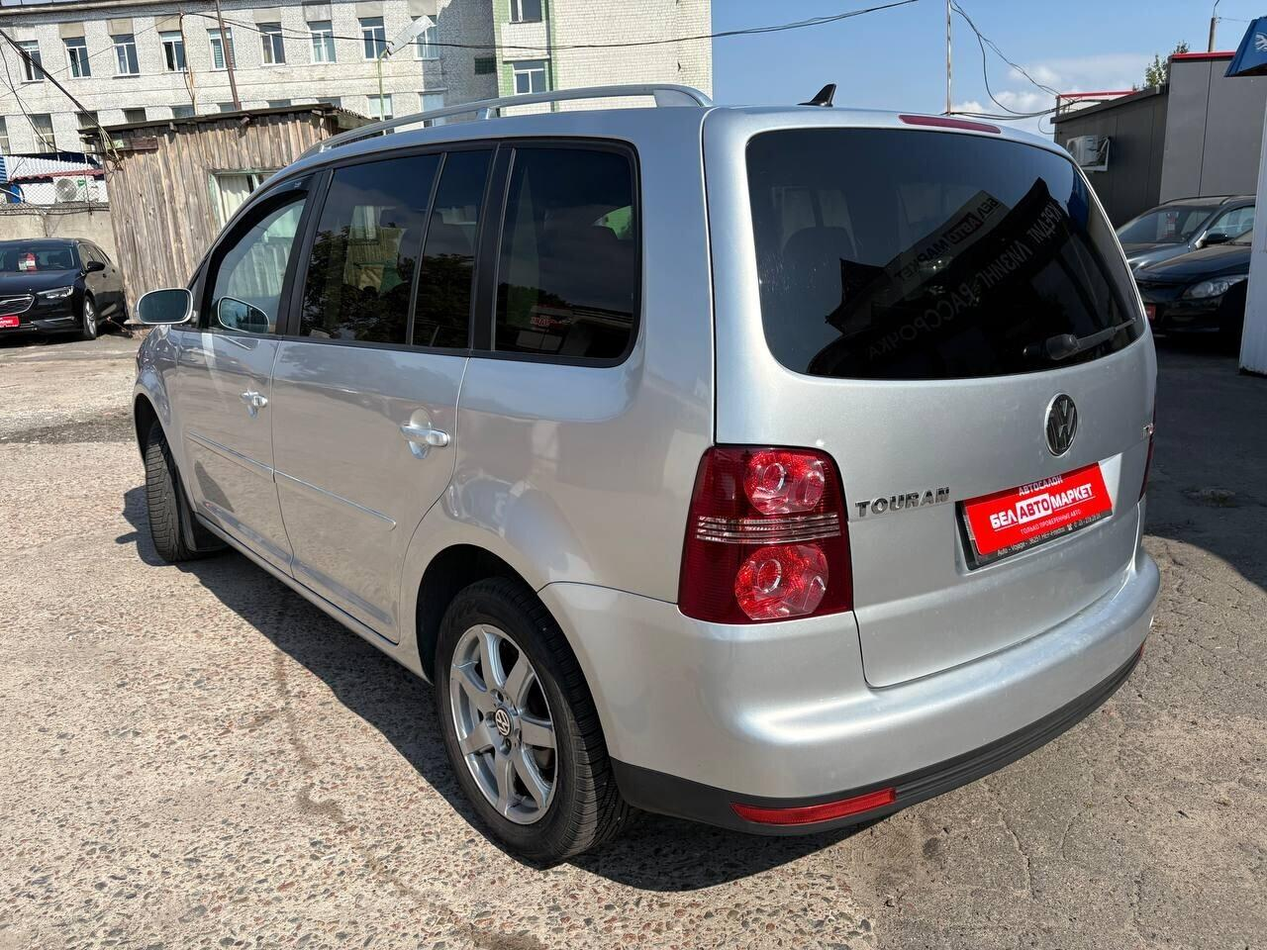Touran_2006-2010: (130, 104, 1164, 870)
